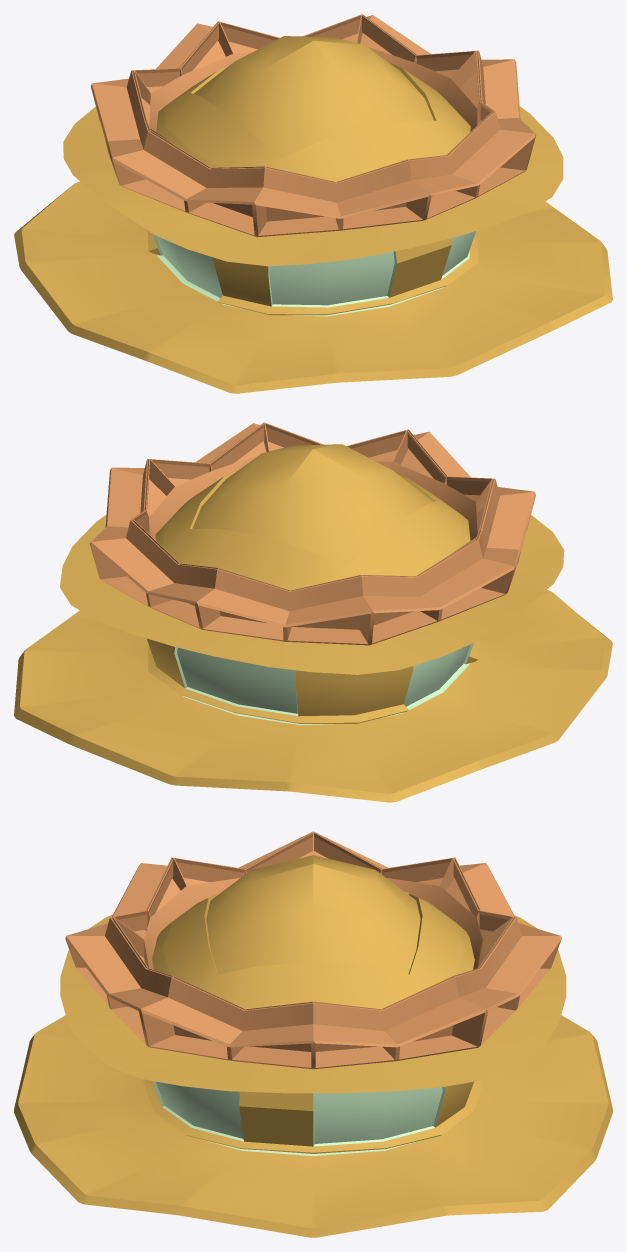
Rendered from Casa2.fbx.
3 views of the same model, one above another, from view 1: azimuth 30°, elevation 25°; view 2: azimuth 150°, elevation 25°; view 3: azimuth 270°, elevation 25° (orthographic). The views are drawn at different scales.
Parts seen in each view (by area): view 1: Casa1; view 2: Casa1; view 3: Casa1.
Boxes of the visible parts, box(x1,y1,x2,y2) form: Casa1: box(14, 14, 612, 393); Casa1: box(14, 422, 612, 802); Casa1: box(14, 831, 612, 1237).
Bounding box in the file's own units: 400 × 243 × 400.
